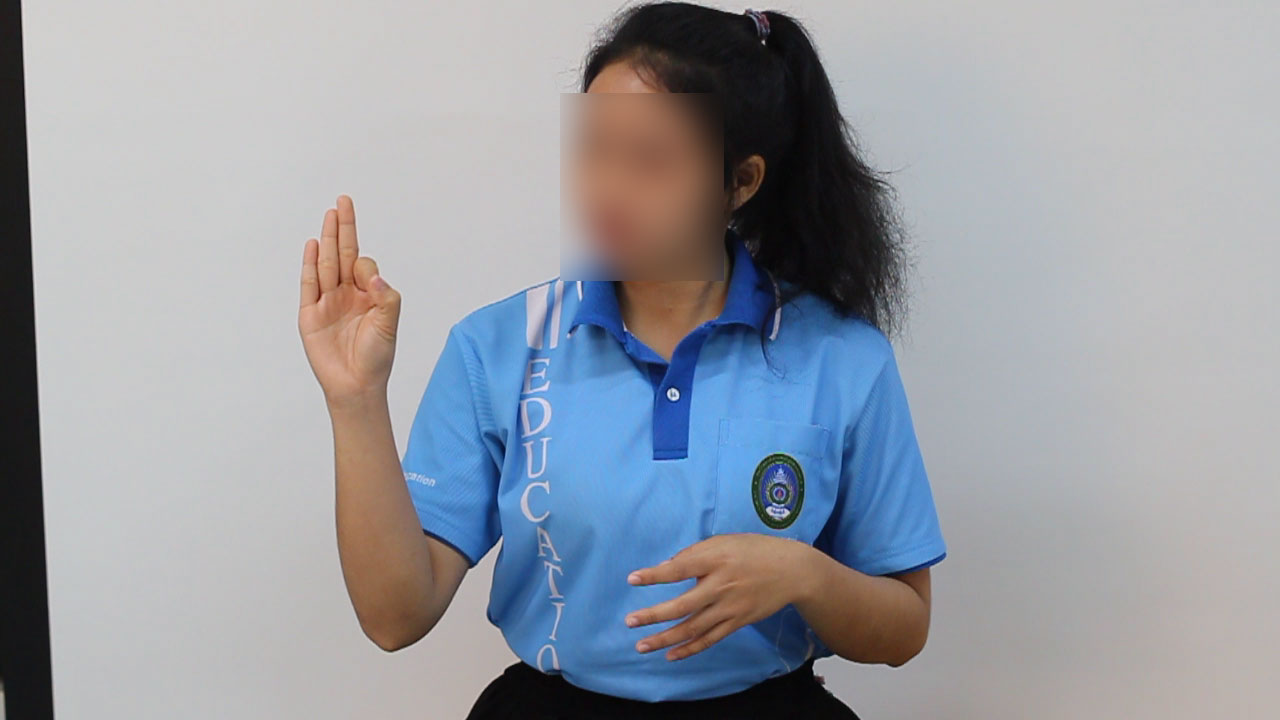for: (286, 177, 419, 422)
